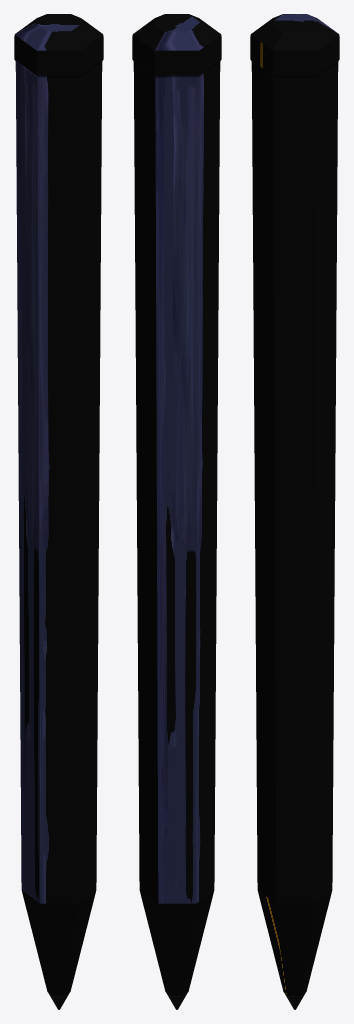
File: obj_Pencil_medium.obj
The picture shows the model from 3 angles, left to right: view 1: azimuth 90°, elevation 25°; view 2: azimuth 150°, elevation 25°; view 3: azimuth 270°, elevation 25°; orthographic projection.
Parts seen in each view (by area): view 1: obj_Pencil_medium; view 2: obj_Pencil_medium; view 3: obj_Pencil_medium.
Boxes of the visible parts, x1,y1,x2,y2 form: obj_Pencil_medium: (14,14,103,1009); obj_Pencil_medium: (132,14,221,1009); obj_Pencil_medium: (250,14,339,1009).
Size of the model in its own units: 0.00919 by 0.1292 by 0.0106.
